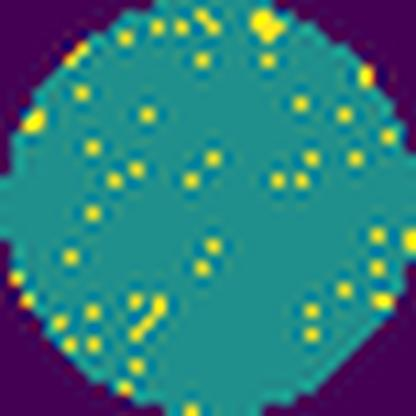Loc: (252, 6, 284, 43)
